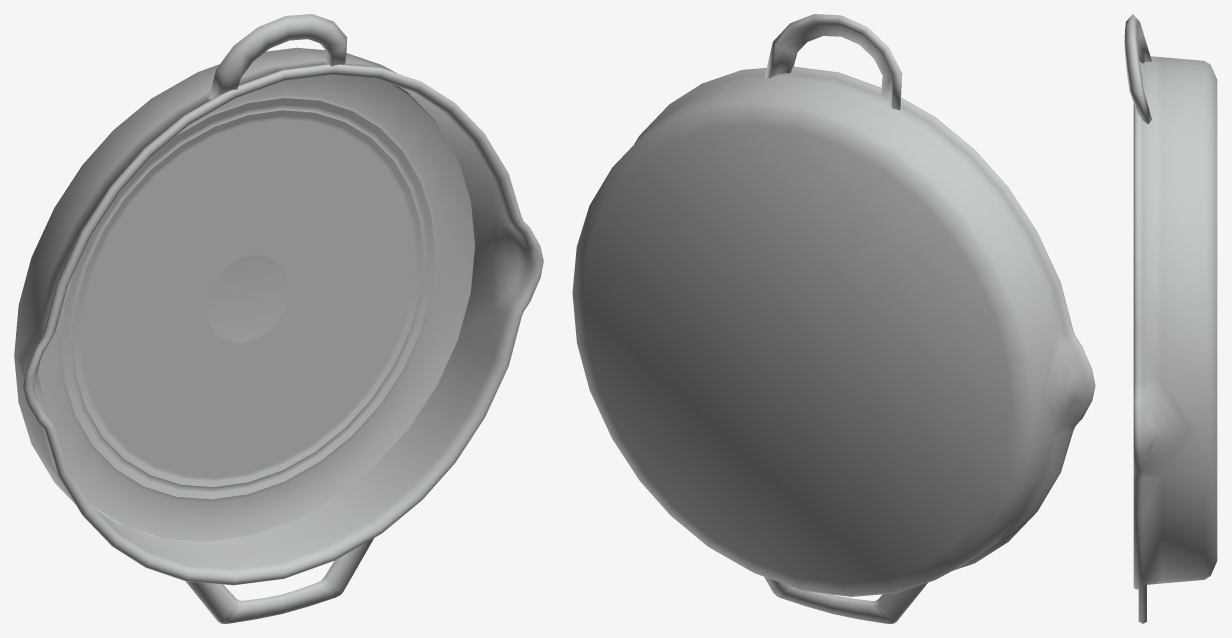
The model's file is MeshPan_8_0_GeomSubset_0.obj.
The picture shows the model from 3 angles, left to right: view 1: azimuth 30°, elevation 25°; view 2: azimuth 150°, elevation 25°; view 3: azimuth 270°, elevation 25°; orthographic projection. The views are drawn at different scales.
Visible parts, largest first — view 1: MeshPan_8_0_GeomSubset_0; view 2: MeshPan_8_0_GeomSubset_0; view 3: MeshPan_8_0_GeomSubset_0.
Boxes of the visible parts, x1=… form: MeshPan_8_0_GeomSubset_0: x1=14, y1=14, x2=543, y2=623; MeshPan_8_0_GeomSubset_0: x1=572, y1=14, x2=1095, y2=623; MeshPan_8_0_GeomSubset_0: x1=1124, y1=14, x2=1217, y2=623.
Size of the model in its own units: 0.2442 by 0.2704 by 0.0395.
